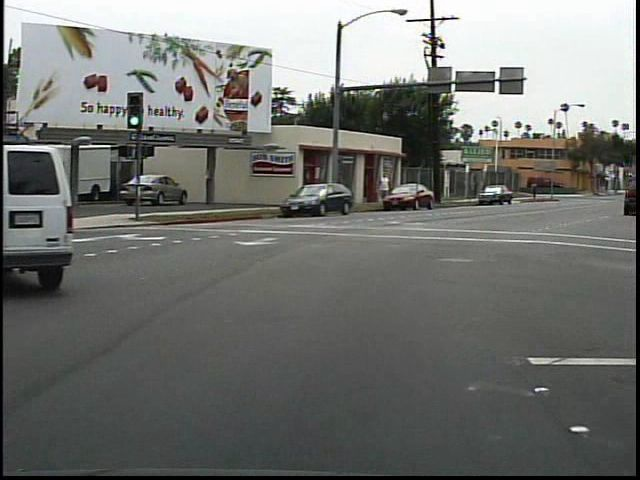person: (374, 166, 397, 210), (528, 177, 541, 203)
